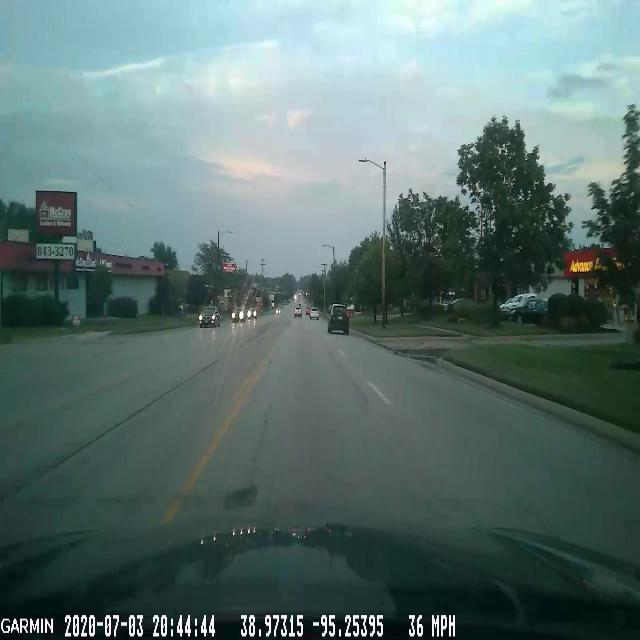Pothole: (215, 477, 269, 511)
